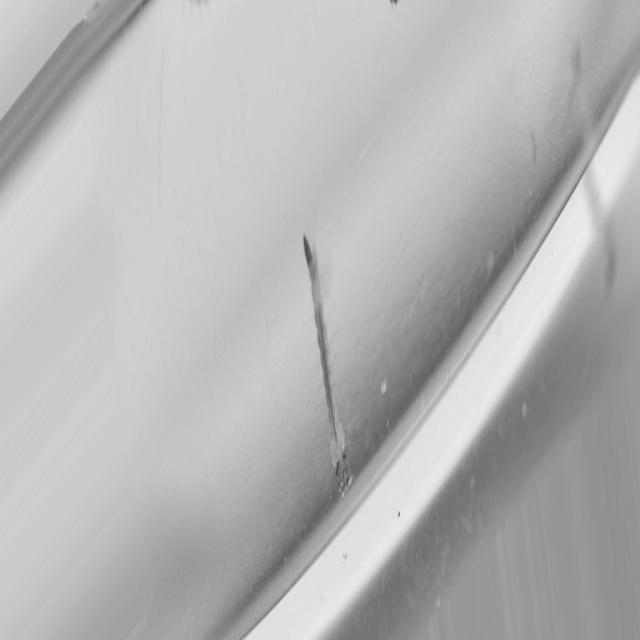larvas: (305, 235, 352, 498)
